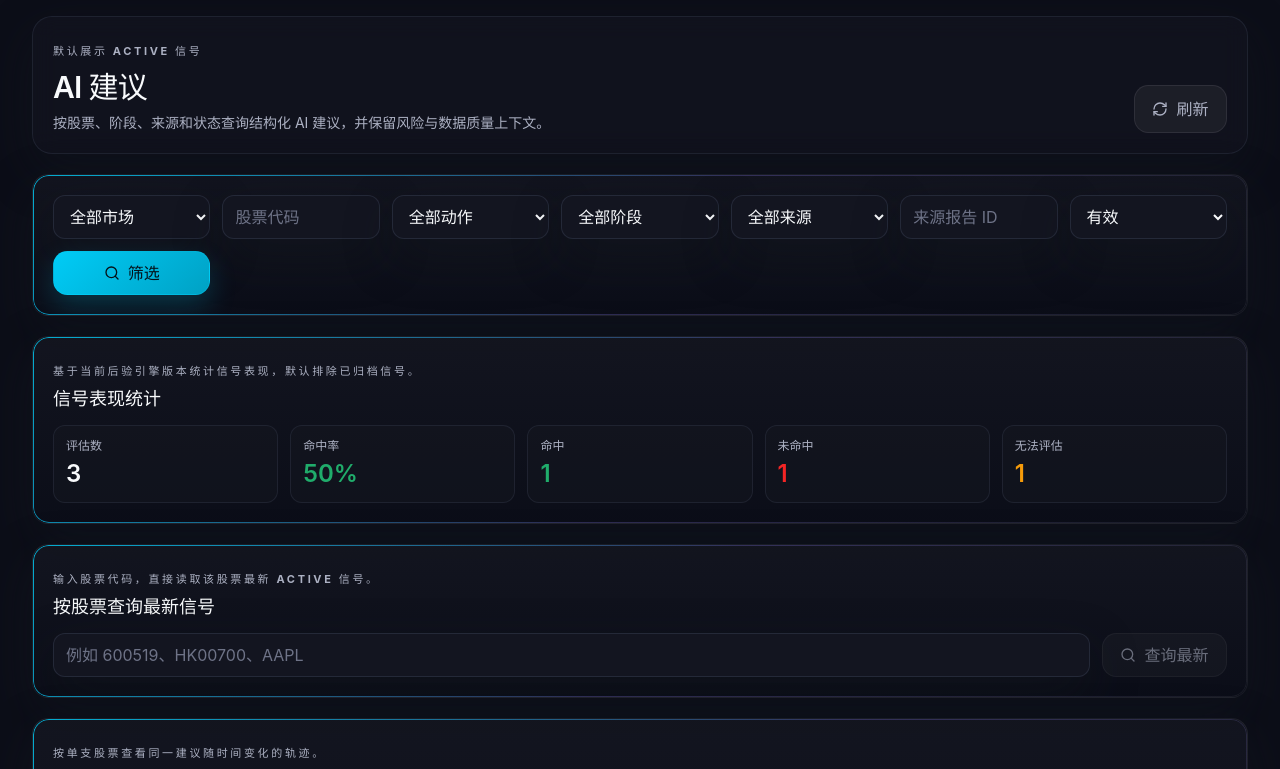
Test: DecisionSignalsPage › ignores stale latest-search responses
In the field named "最新股票代码": point(571, 655) [53, 633, 1090, 677], type "600519"
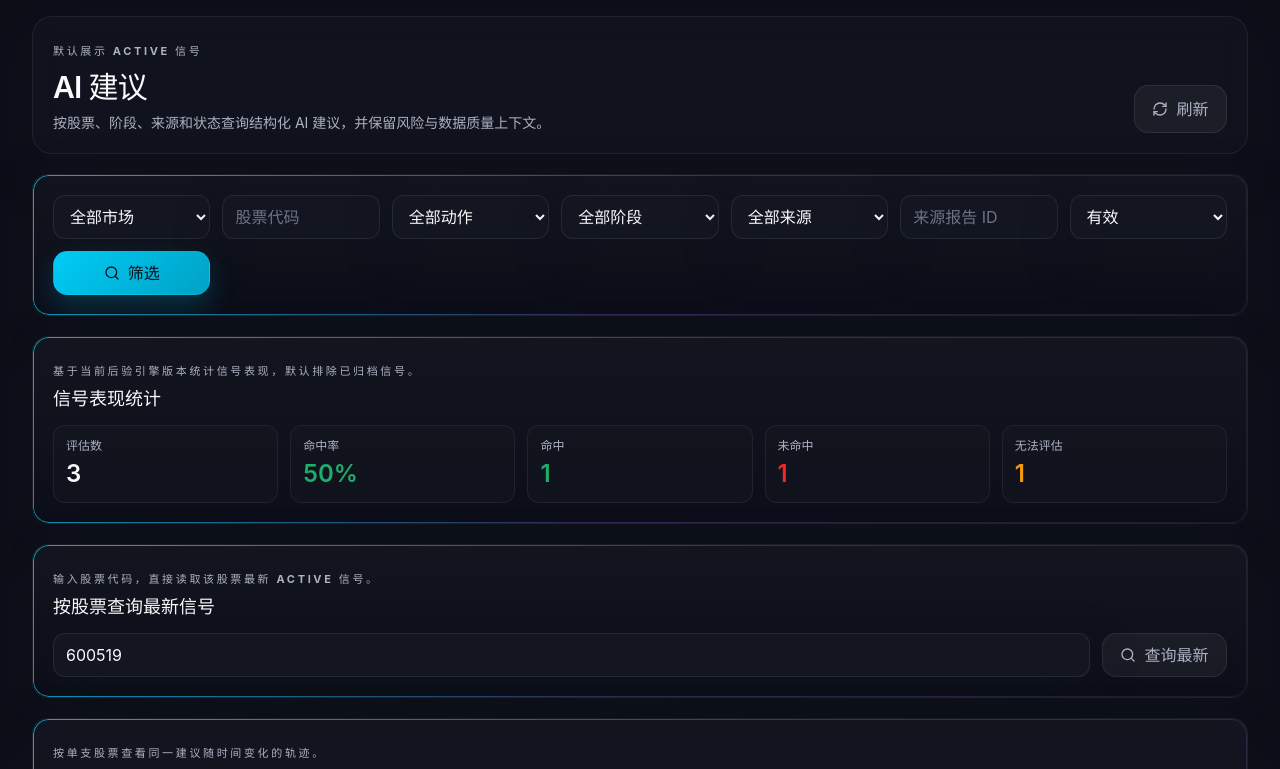
Click the button "查询最新": point(1164, 655) [1102, 633, 1227, 677]
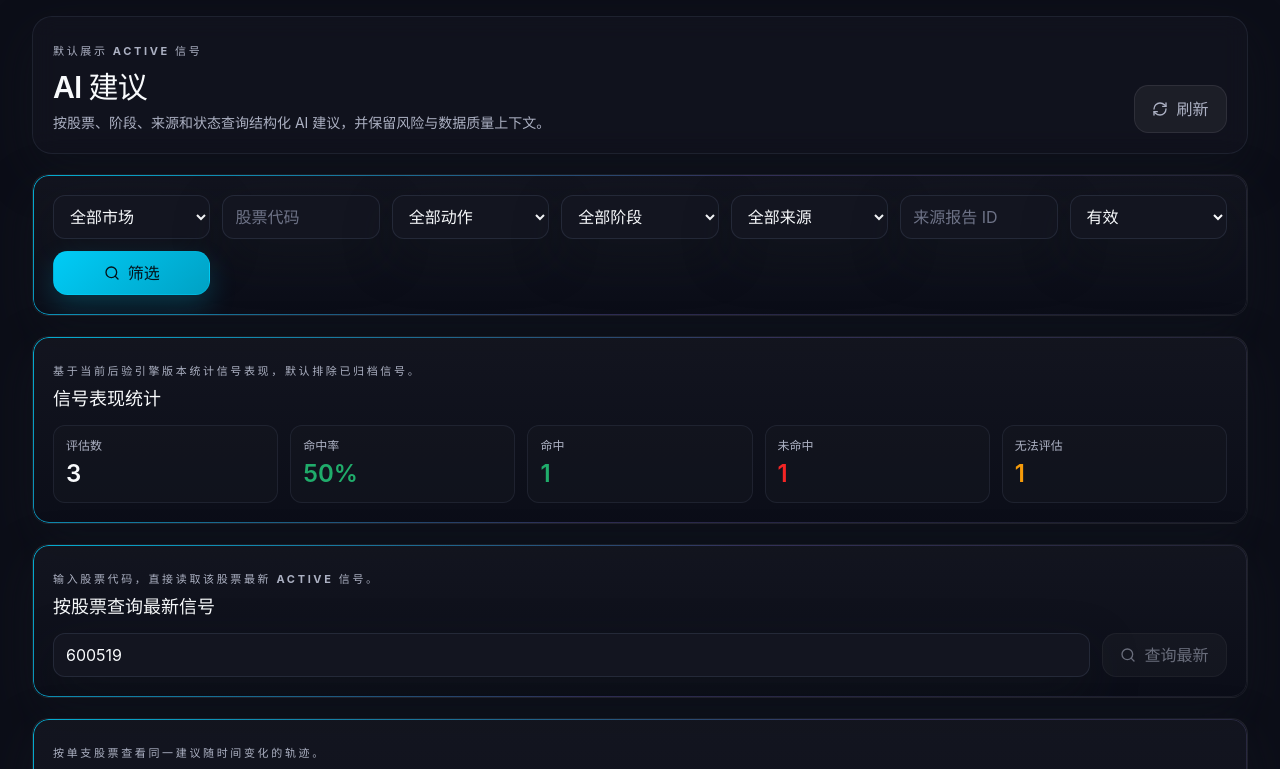
Replace the text in the field named "最新股票代码" with "AAPL": point(571, 655) [53, 633, 1090, 677]
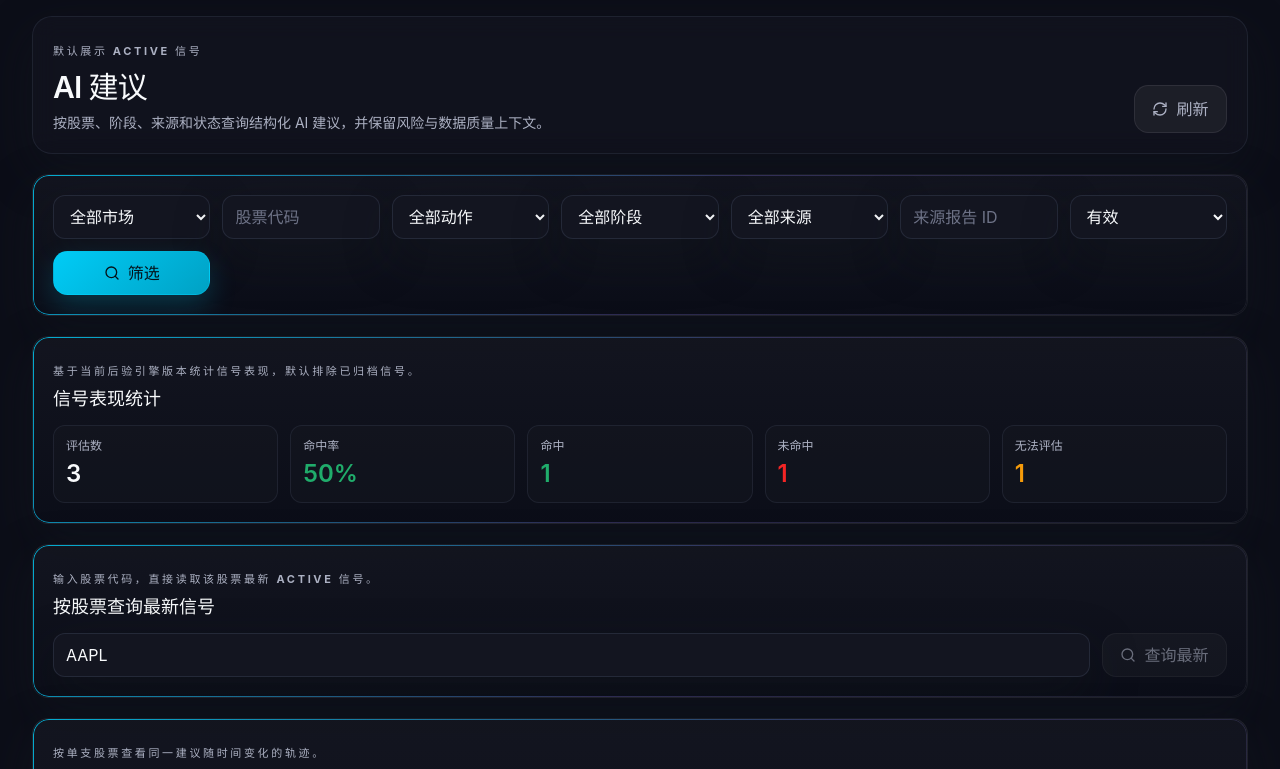
Submit the form named "最新股票代码", box [53, 633, 1227, 677]
(page scrolled)
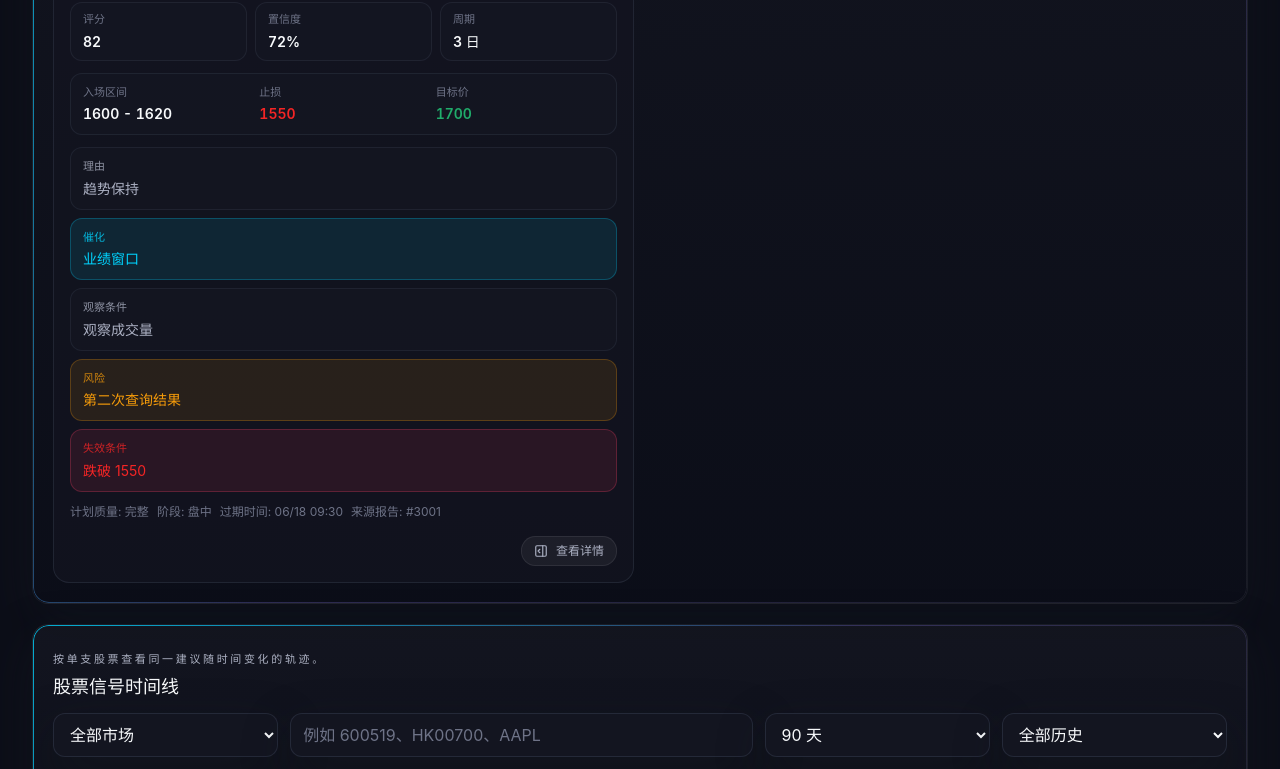
Now the text "第二次查询结果" is shown, box [83, 391, 181, 408]
